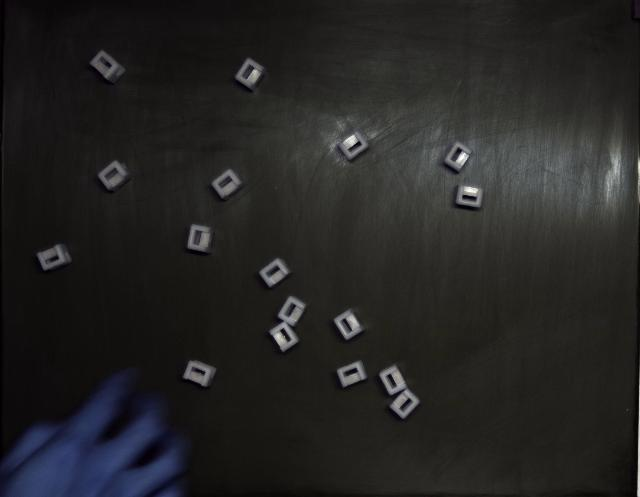fourth_side: (90, 50, 125, 84), (98, 160, 134, 191), (235, 58, 266, 91), (211, 169, 244, 200), (182, 360, 216, 388), (36, 244, 71, 271), (338, 131, 369, 161), (269, 321, 299, 352), (334, 309, 364, 340), (259, 259, 291, 288), (278, 296, 308, 326), (390, 389, 420, 419), (444, 141, 472, 172), (336, 361, 368, 388), (379, 364, 406, 396), (188, 225, 215, 254), (456, 185, 484, 208)
